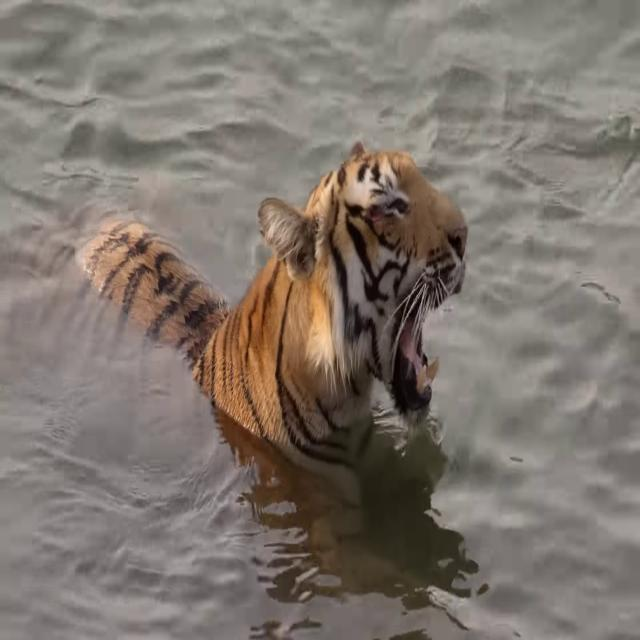tiger: (77, 138, 469, 462)
